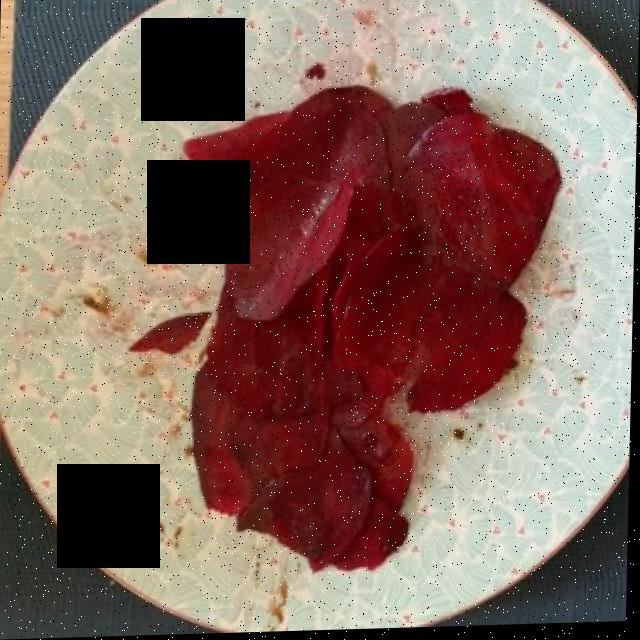beetroot-raw: (163, 89, 546, 573)
